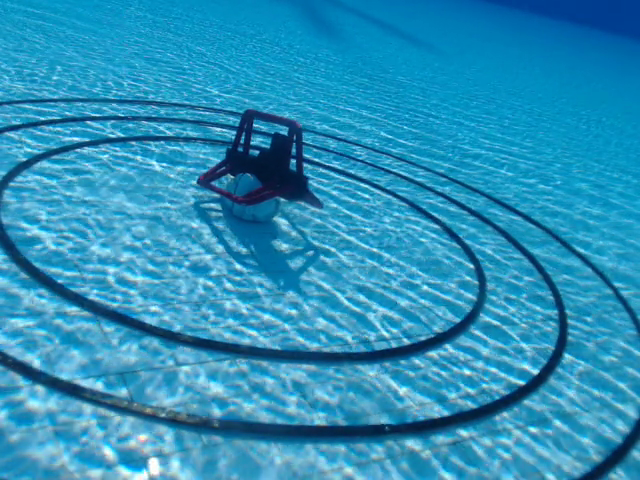submarine: (195, 108, 326, 210)
